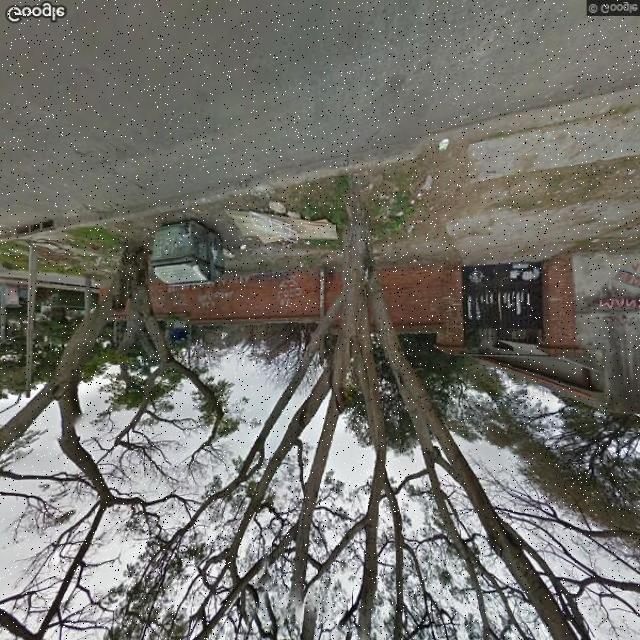garbage container: (143, 217, 237, 298)
